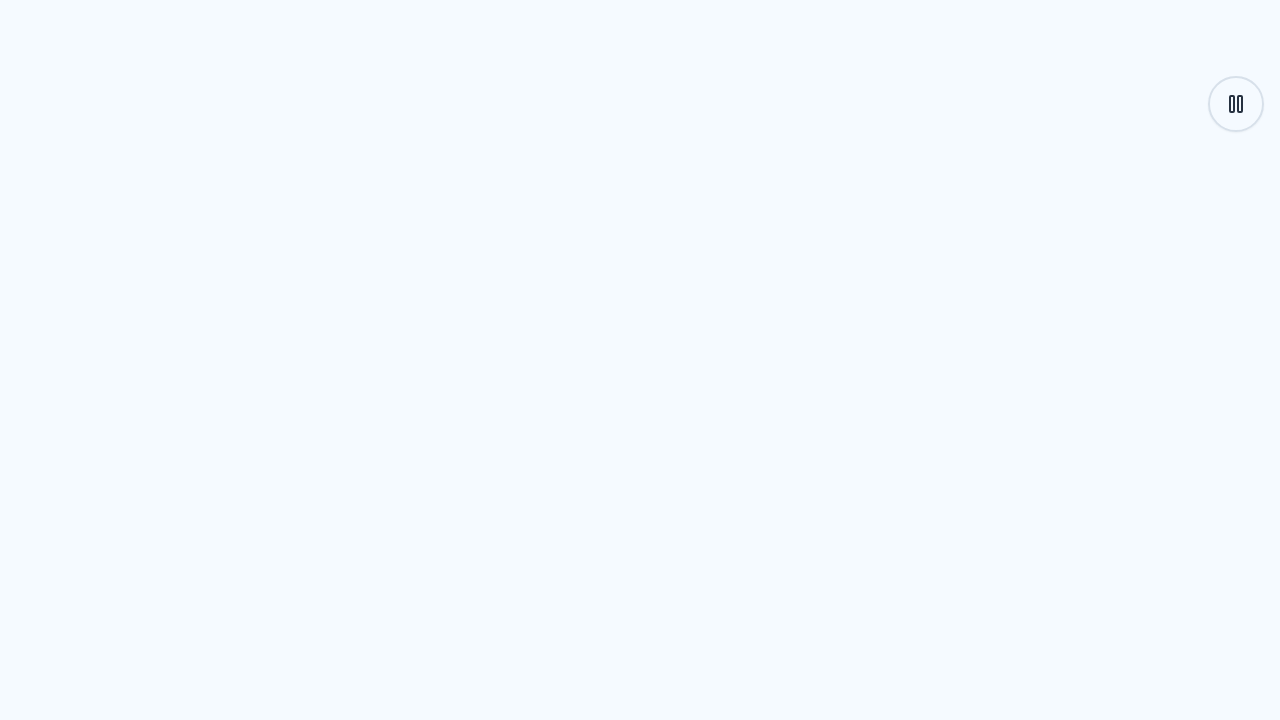
SessionPauseControl — behavior that must survive the fix › hides the pause button while the overlay is up, and restores it on resume
Click the button named "pause session": click(1236, 104) [1208,76,1264,132]
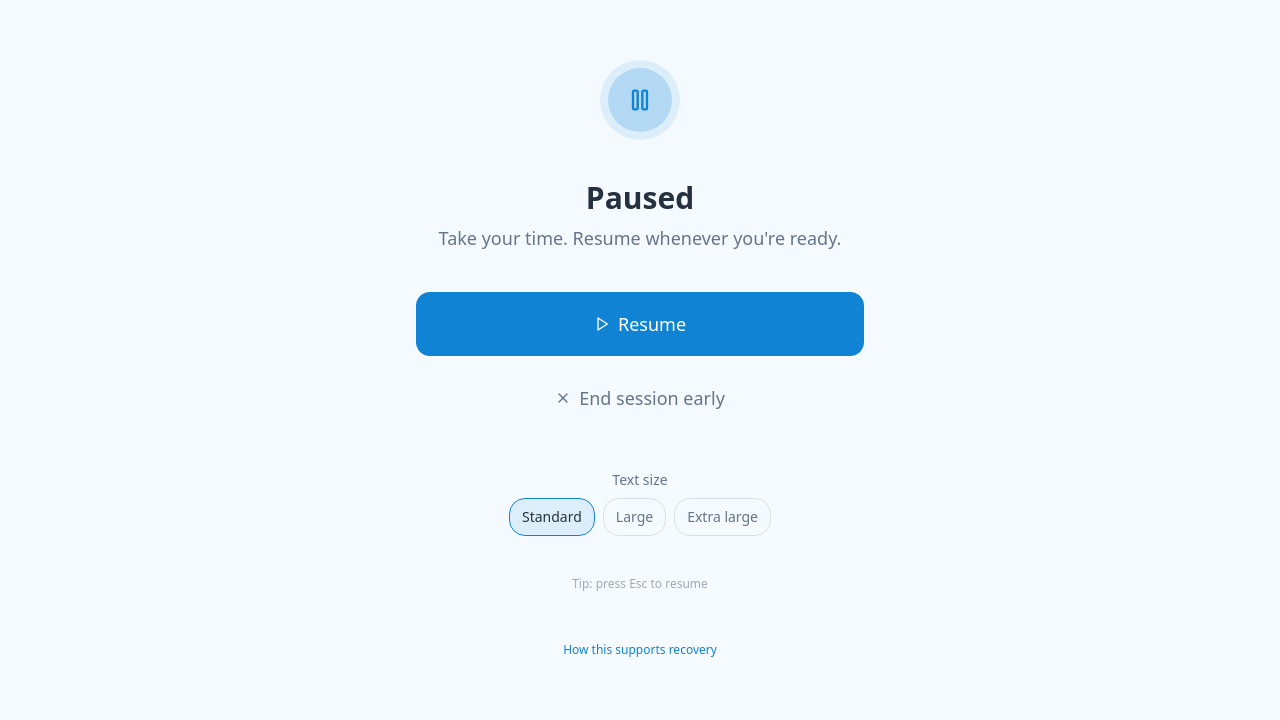
Click the button "Resume": click(640, 324) [416,292,864,356]
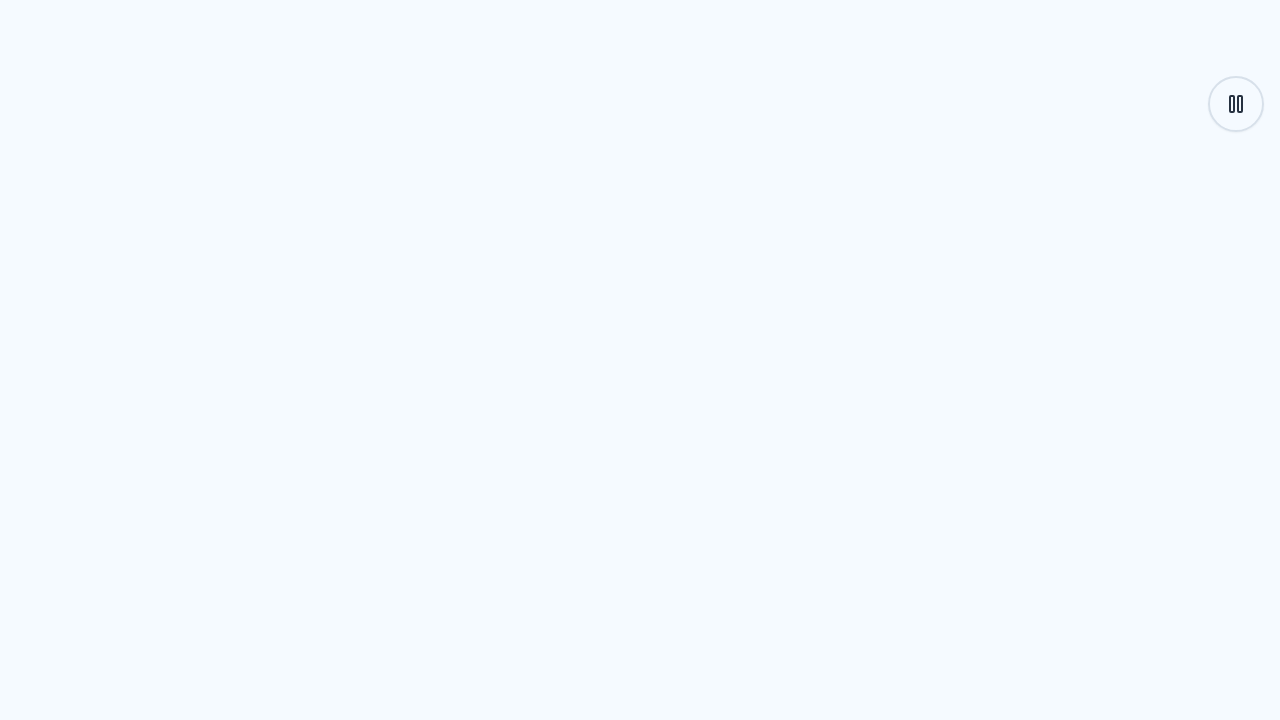
Check: the button named "pause session" is shown, box [1208,76,1264,132]
